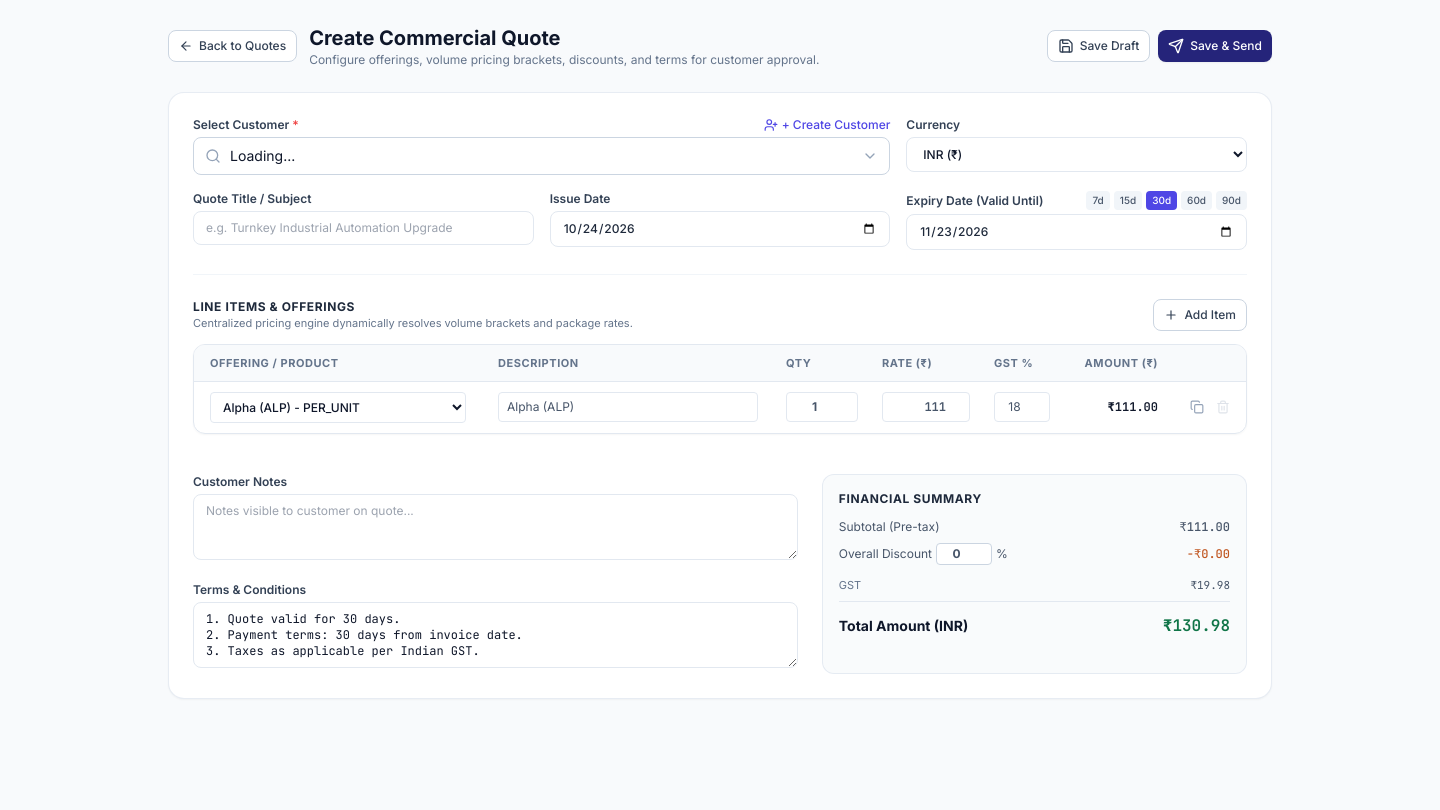
Test case: <QuoteFormPage /> line prices (BUG-13) › refuses to save a custom line without a price
Step 1. Click the button "Add Item" → (1200, 315), box [1153, 299, 1247, 331]
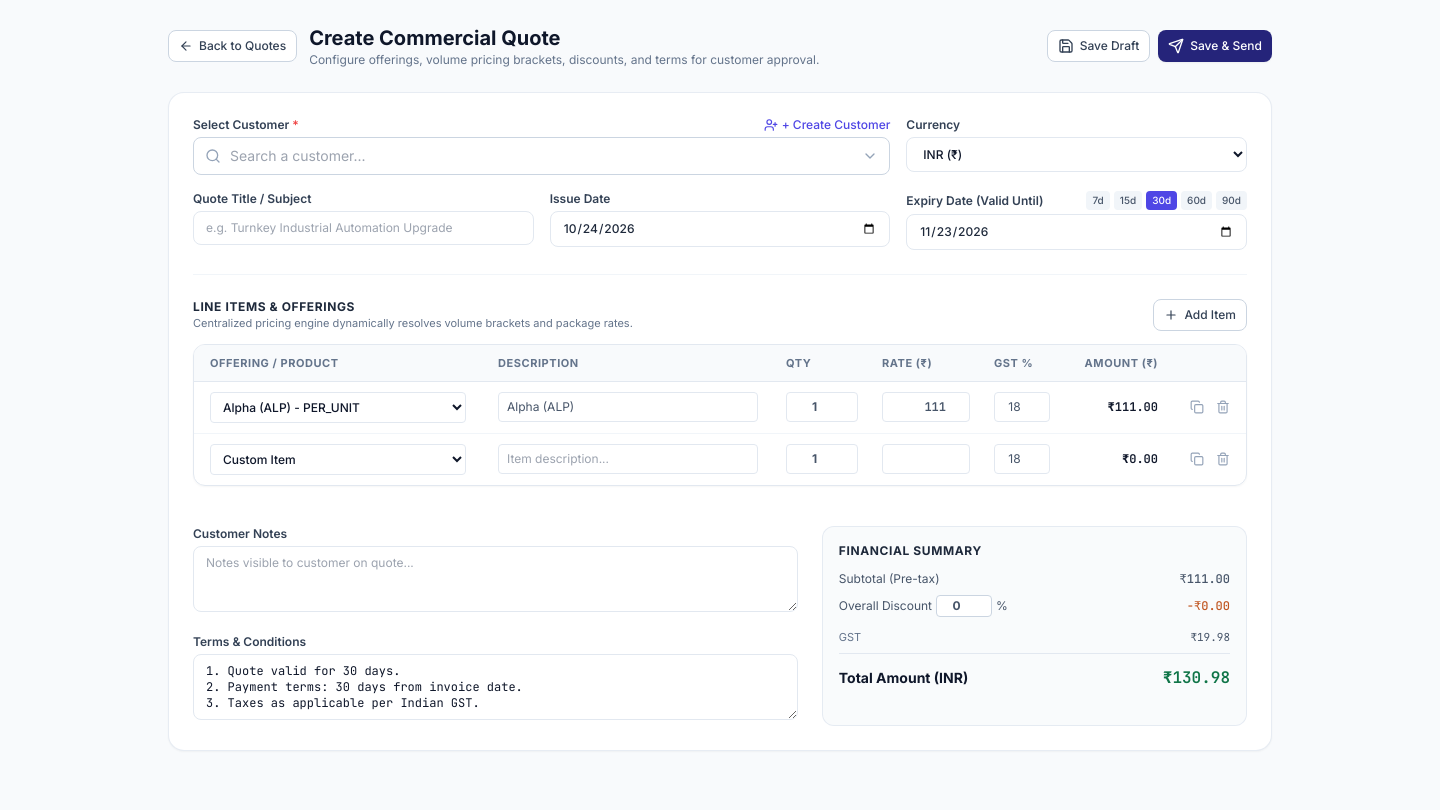
Step 2. Type "Onsite support" into the field with placeholder "Item description..." → (628, 459), box [498, 444, 758, 474]
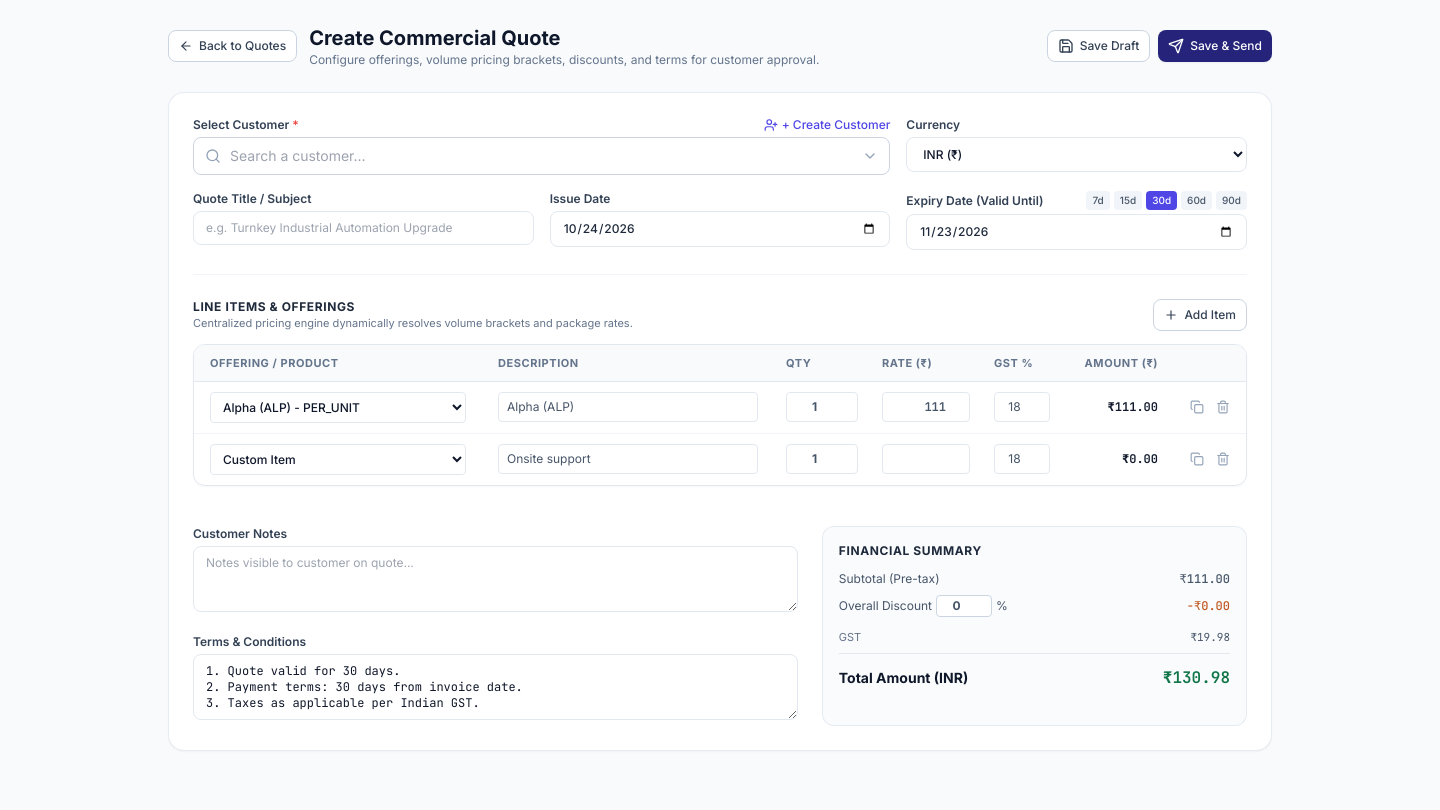
Step 3. Click the button "Save Draft" → (1098, 46), box [1047, 30, 1150, 62]
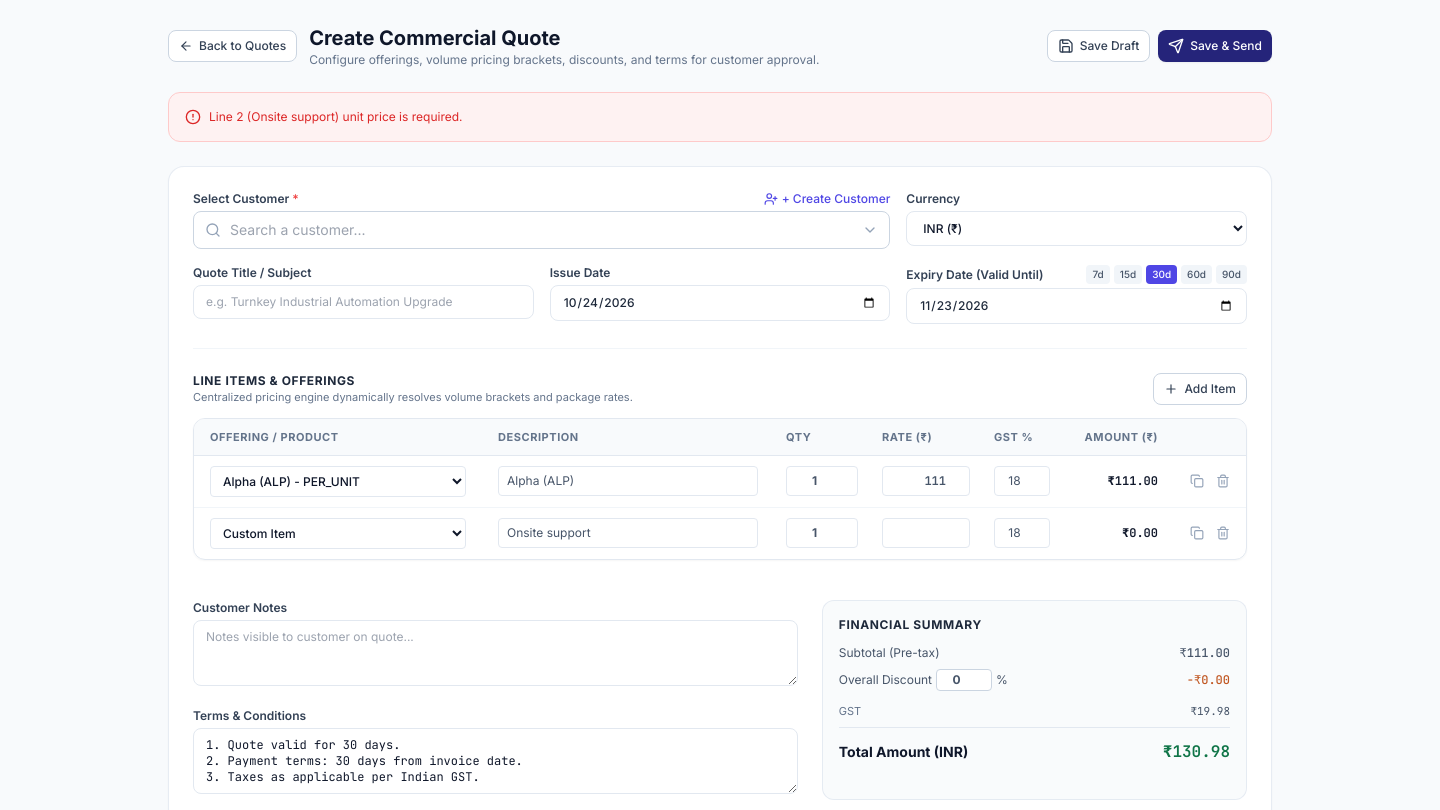
Now the text "Line 2 (Onsite support) unit price is required." is shown, box [209, 109, 462, 125]
